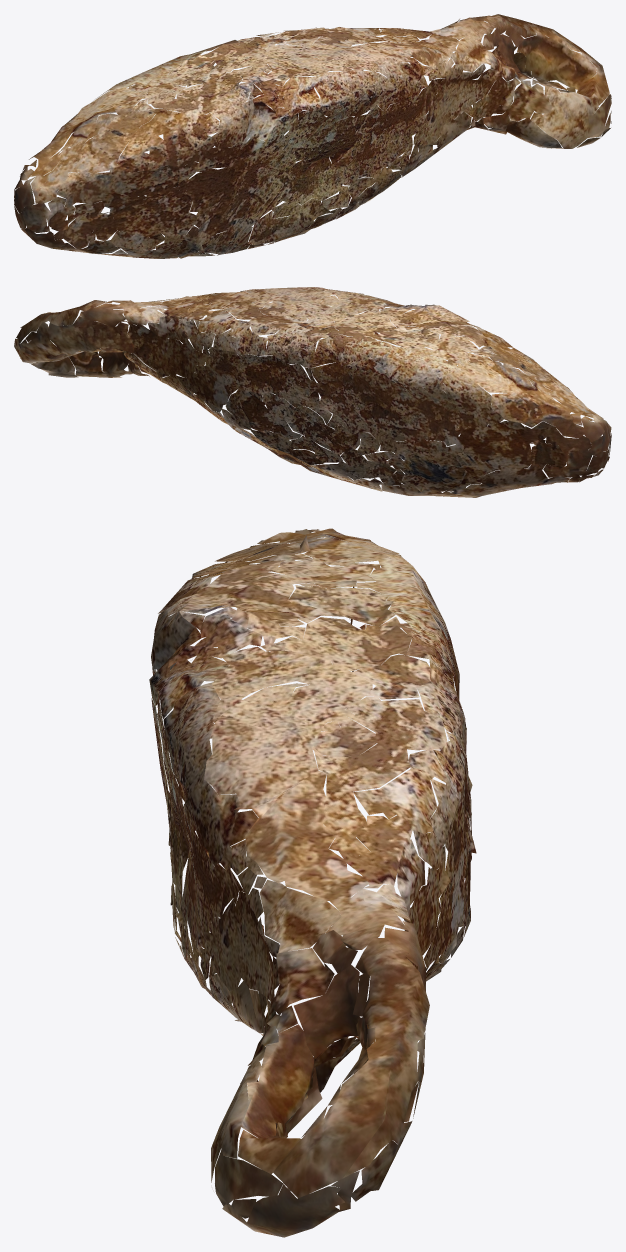
File: lead_weight.glb
3 renders of one model, top to bottom at view 1: azimuth 30°, elevation 25°; view 2: azimuth 150°, elevation 25°; view 3: azimuth 270°, elevation 25°, orthographic. The views are drawn at different scales.
Parts seen in each view (by area): view 1: Object_4; view 2: Object_4; view 3: Object_4.
Boxes of the visible parts, box(x1,y1,x2,y2) form: Object_4: box(14, 14, 611, 258); Object_4: box(14, 287, 611, 497); Object_4: box(149, 528, 476, 1237).
Size of the model in its own units: 0.6897 by 0.1797 by 0.1698.
1 material, 1 textured.
